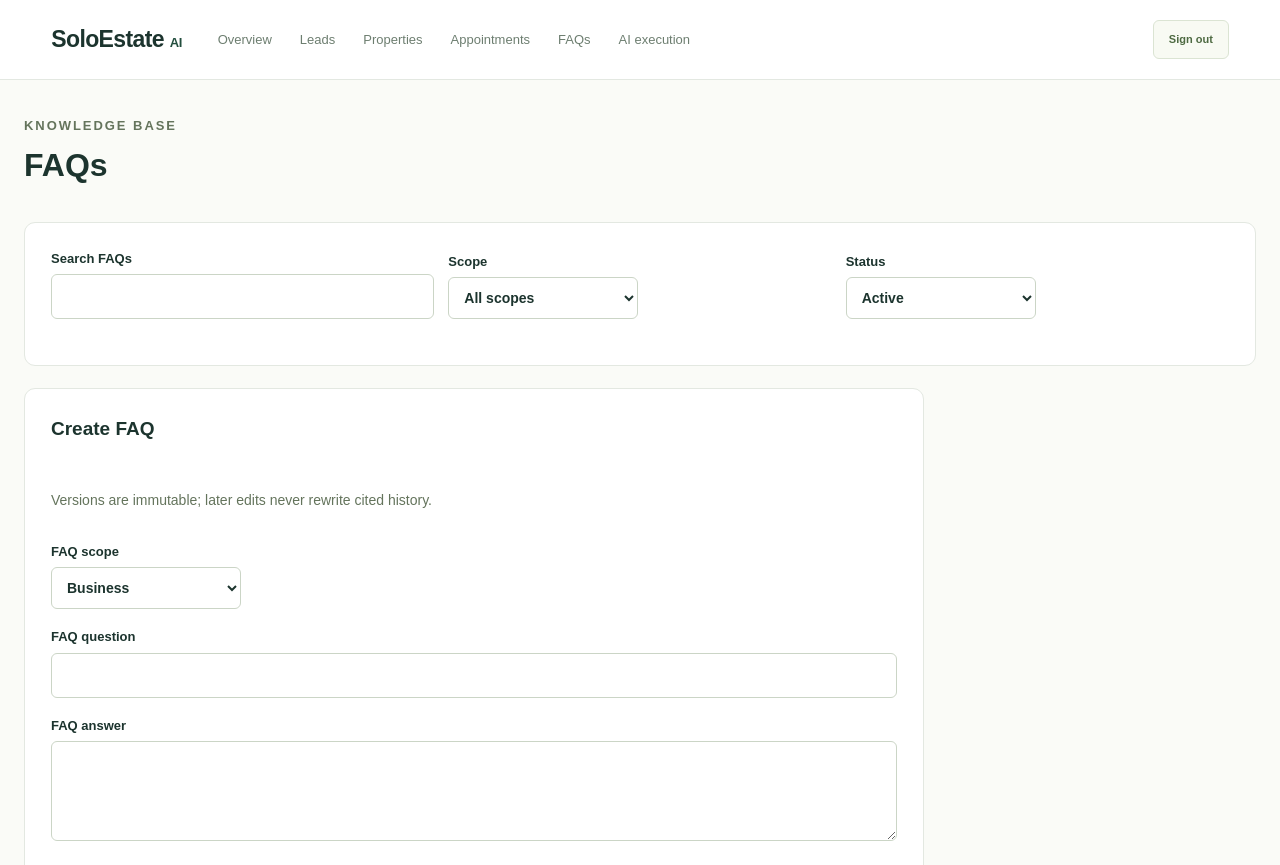
keeps failed saves visible without claiming success
Type "Q?" into the field labelled "FAQ question" at (474, 676), box x1=51 y1=653 x2=897 y2=698
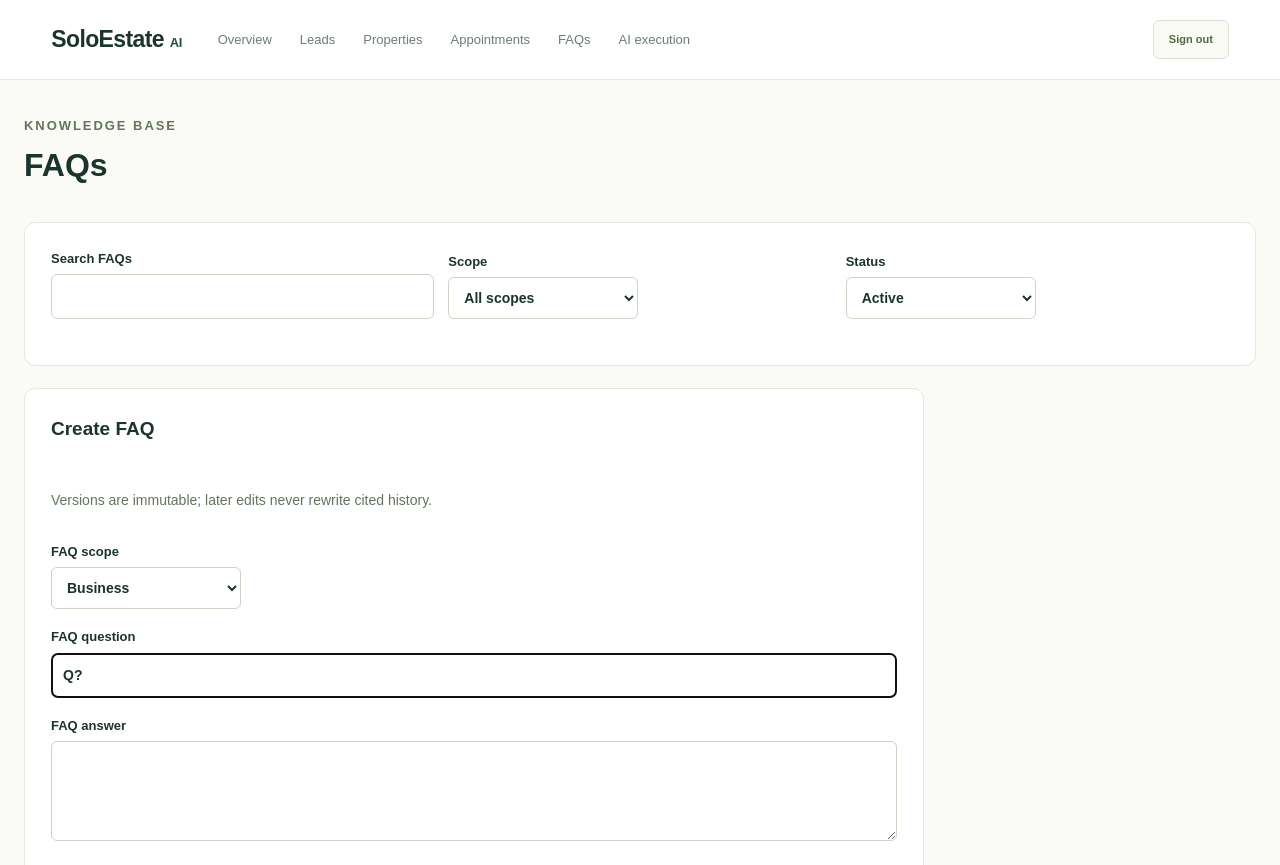
Type "A." into the text box labelled "FAQ answer" at (474, 792), box x1=51 y1=742 x2=897 y2=842
(page scrolled)
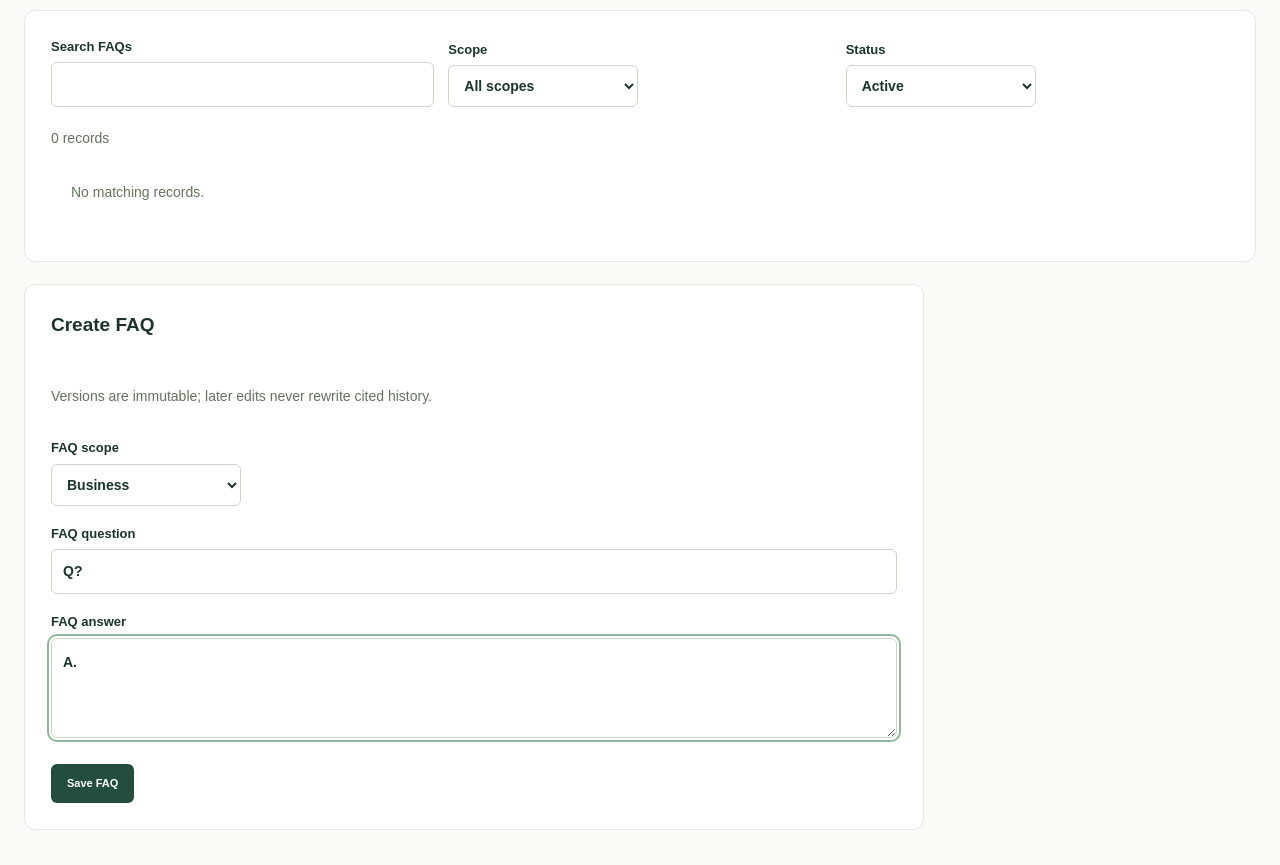
Click the button "Save FAQ" at (93, 783), box x1=51 y1=764 x2=134 y2=803
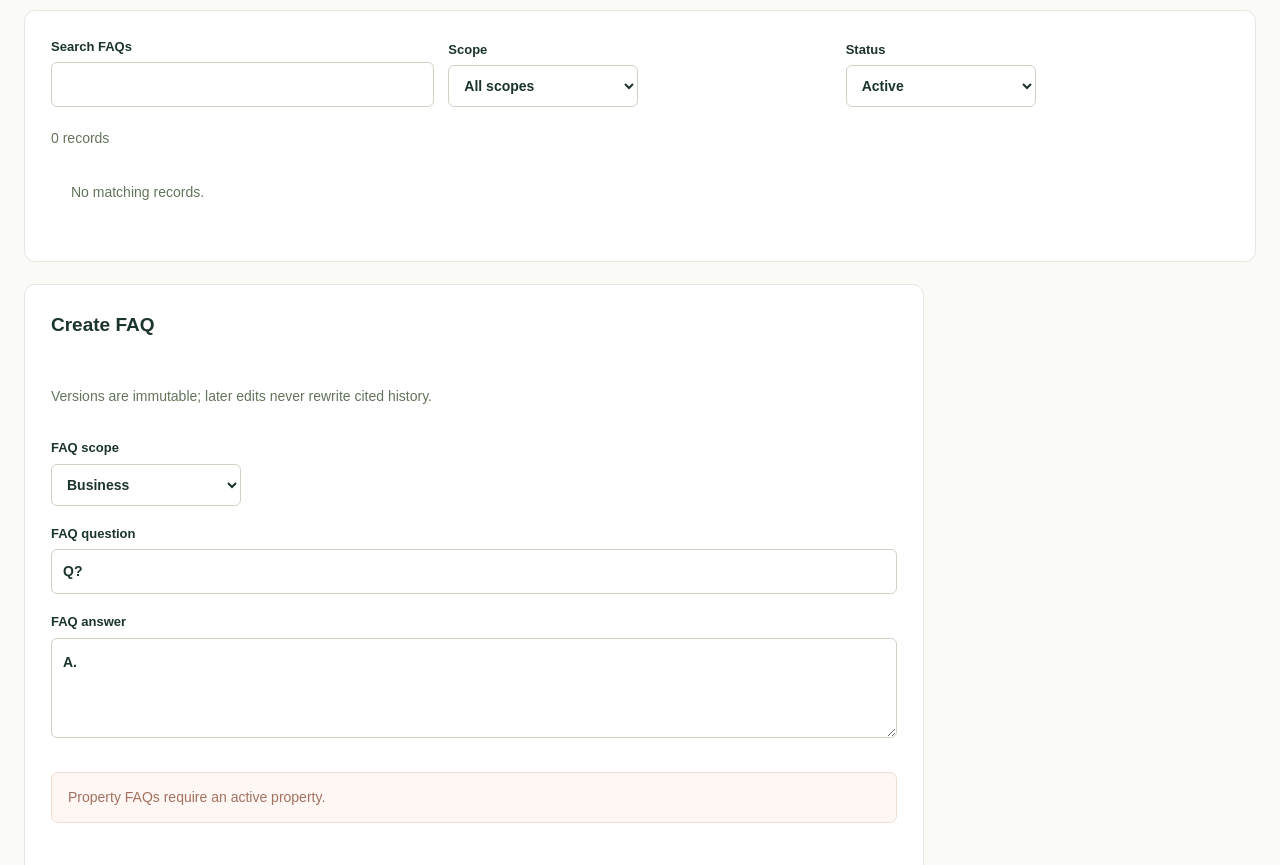
expect the message shows "active property": met, box x1=68 y1=789 x2=325 y2=805
